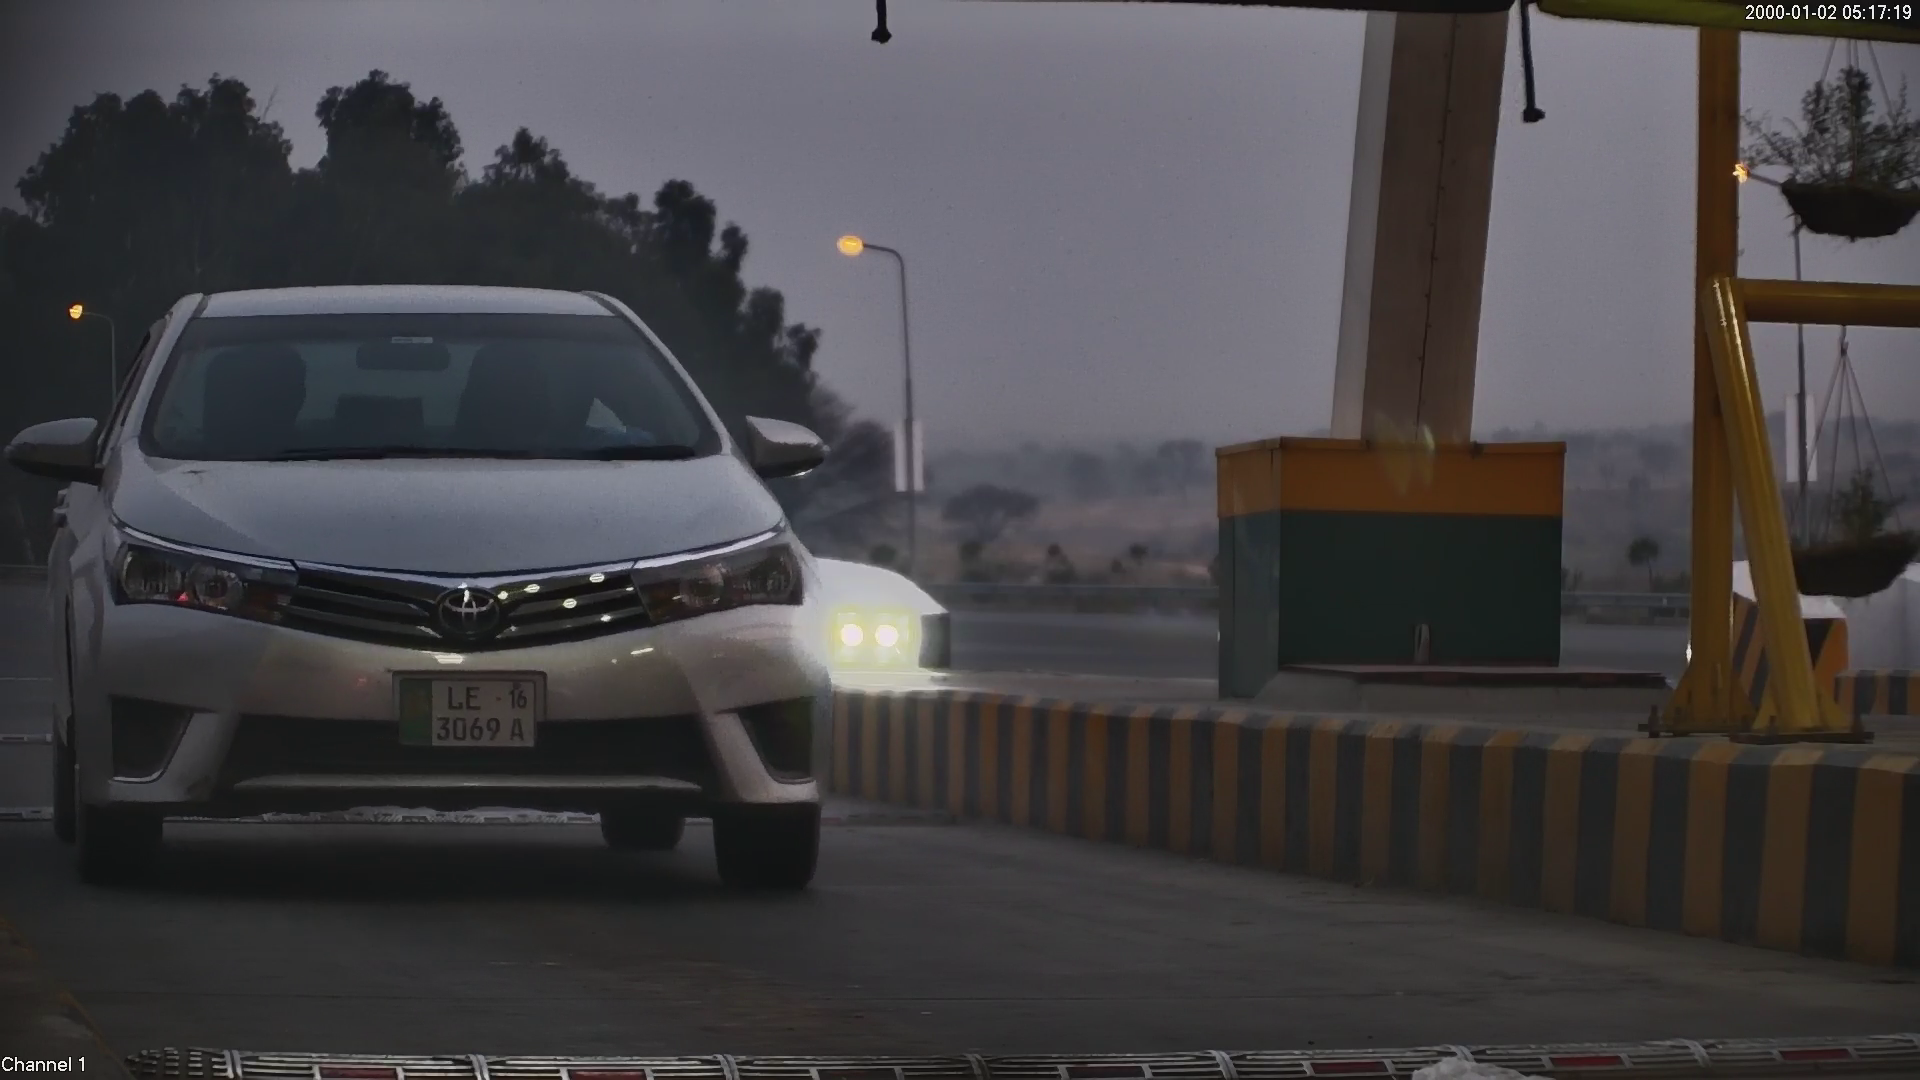Number_Plate: (389, 662, 547, 758)
